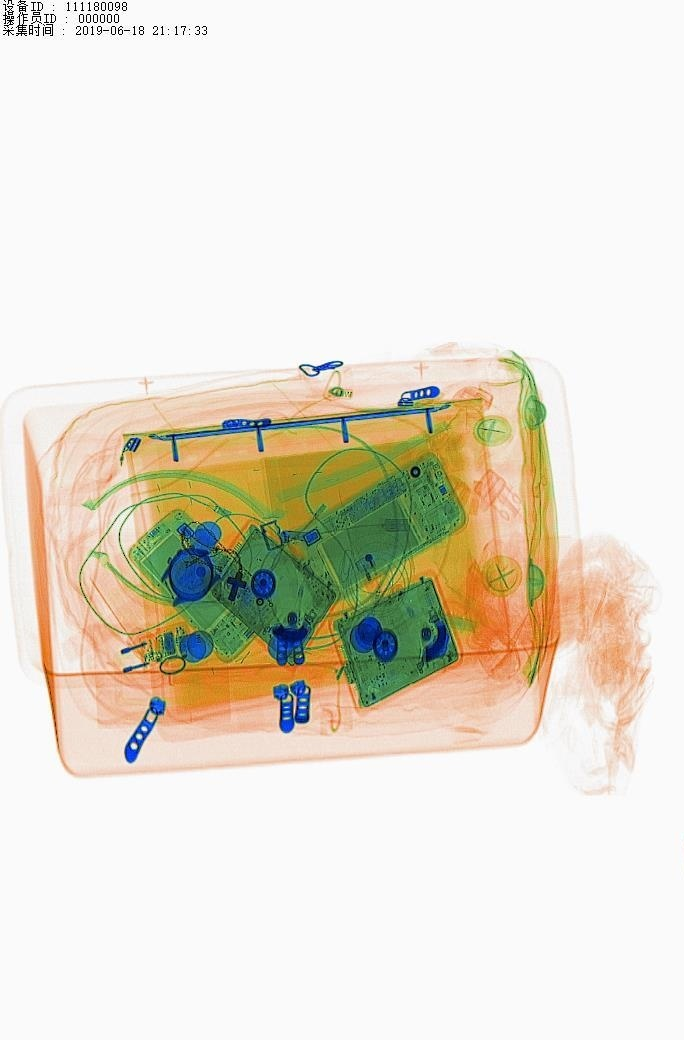NonmetallicFire: (340, 541, 420, 632)
